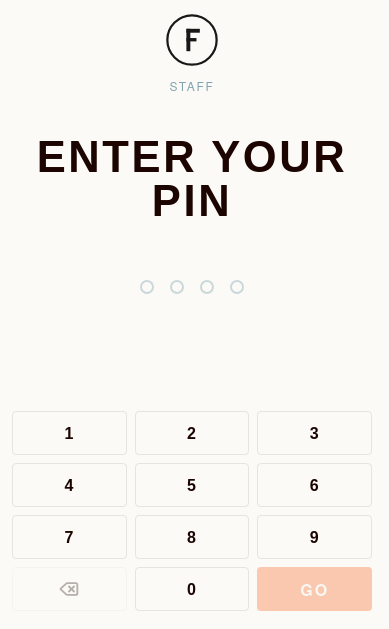
Test: LoginForm › clears the error when the user starts typing a new PIN
What coordinates should you click on to do the following:
click the button "9"
I would click on:
 (315, 537)
Its box is [257,515,372,559].
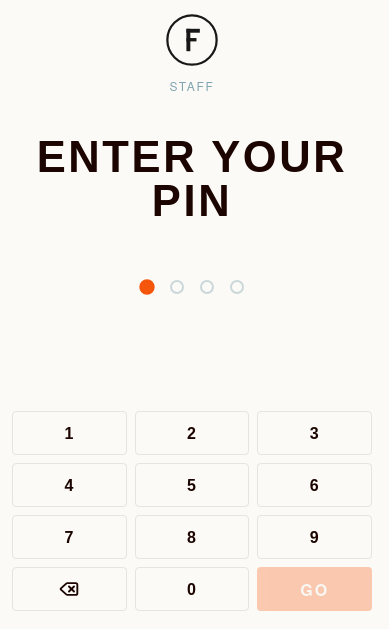
What coordinates should you click on to do the following:
click the button "9"
I would click on:
 (315, 537)
Its box is [257,515,372,559].
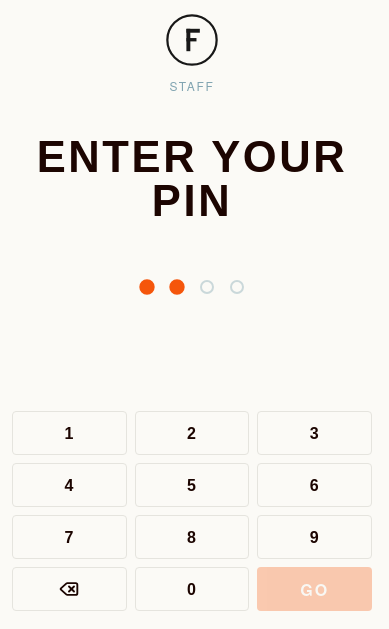
What coordinates should you click on to do the following:
click the button "9"
I would click on:
 (315, 537)
Its box is [257,515,372,559].
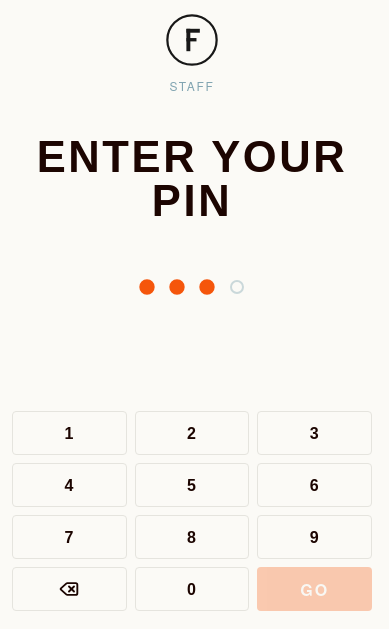
What coordinates should you click on to do the following:
click the button "9"
I would click on:
 (315, 537)
Its box is [257,515,372,559].
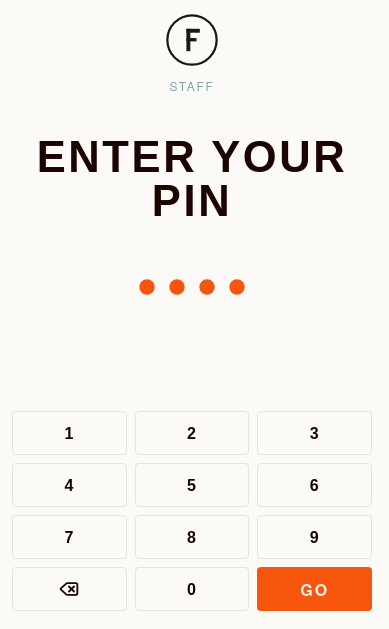
What coordinates should you click on to do the following:
click the button with aria-label "Confirm PIN"
I would click on:
 (315, 589)
Its box is [257,567,372,611].
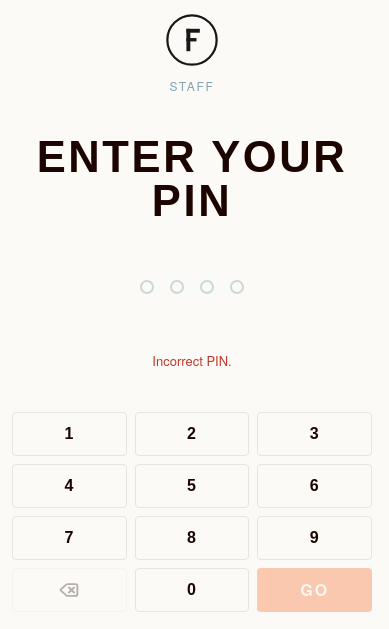
Expected: the message "Incorrect PIN." is shown, [152,351,232,372]
What coordinates should you click on to do the following:
click the button "1"
I would click on:
 (69, 434)
Its box is [12,412,127,456].
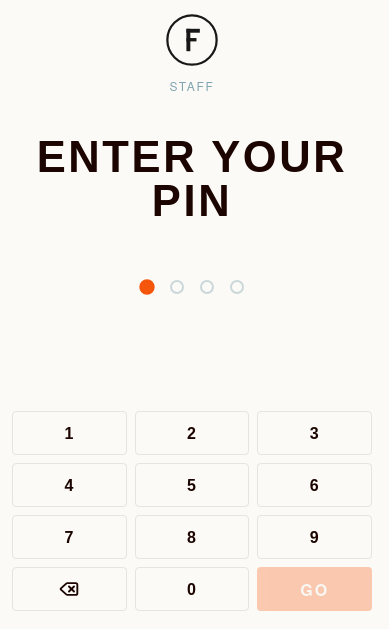
Expected: the message "Incorrect PIN." is gone
